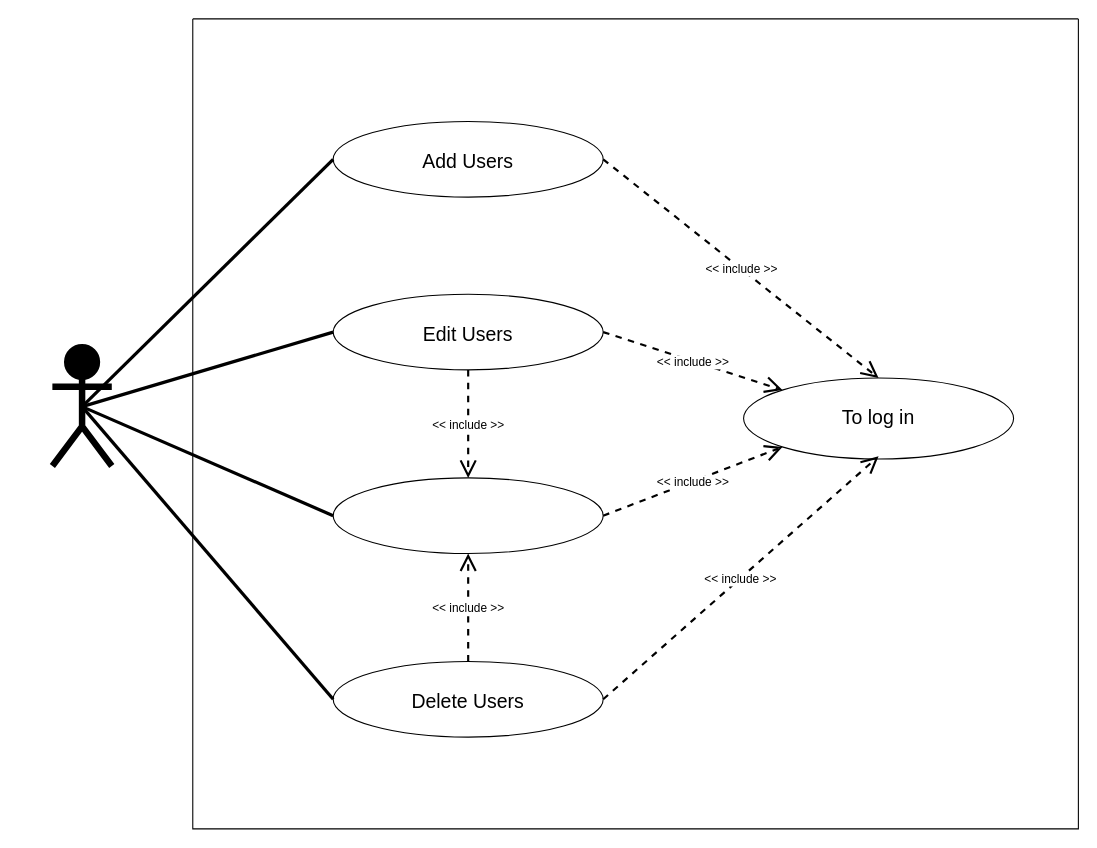
This 1097x848 diagram has some shape labels left out. Here are the shapes that lost their labels. From the top down, the centre of each, then its label:
[81,406]: Administrator
[467,515]: See all Users
